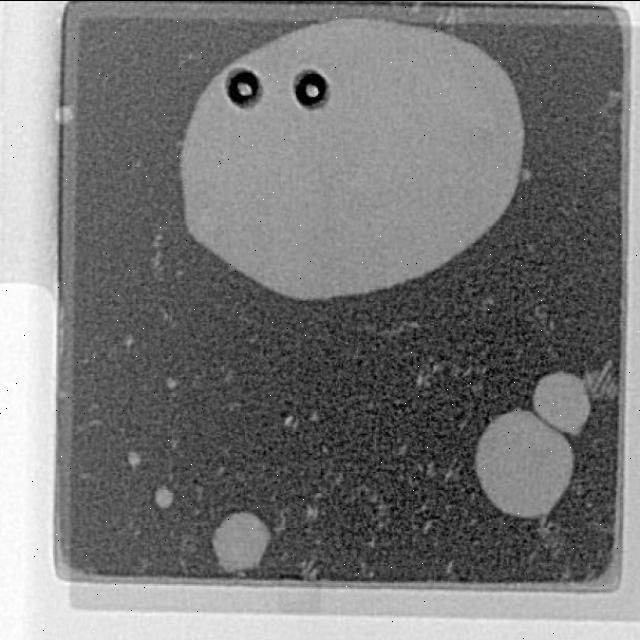void: (182, 18, 524, 299), (476, 410, 575, 516), (532, 372, 590, 435), (212, 511, 269, 571), (587, 360, 617, 398), (538, 516, 559, 546), (400, 3, 443, 16), (154, 485, 174, 508), (152, 234, 164, 270), (436, 5, 460, 23), (57, 106, 73, 124), (417, 369, 433, 385), (302, 560, 316, 577), (128, 451, 140, 467), (305, 506, 318, 520), (167, 377, 178, 389)
